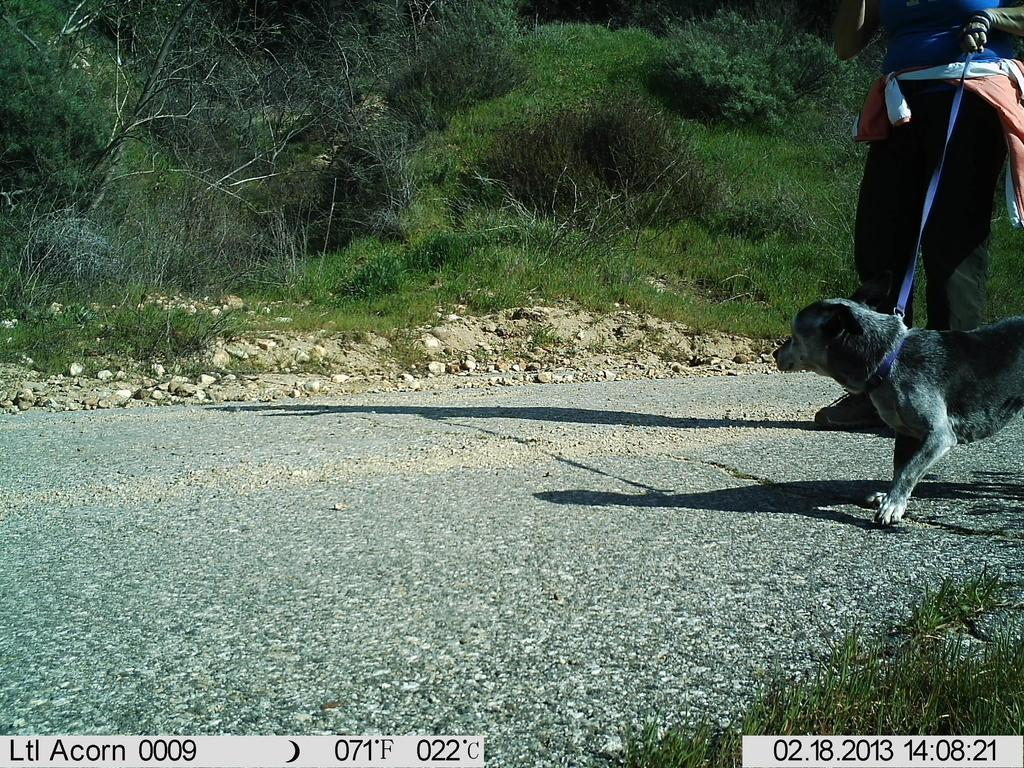dog: (775, 281, 1023, 537)
